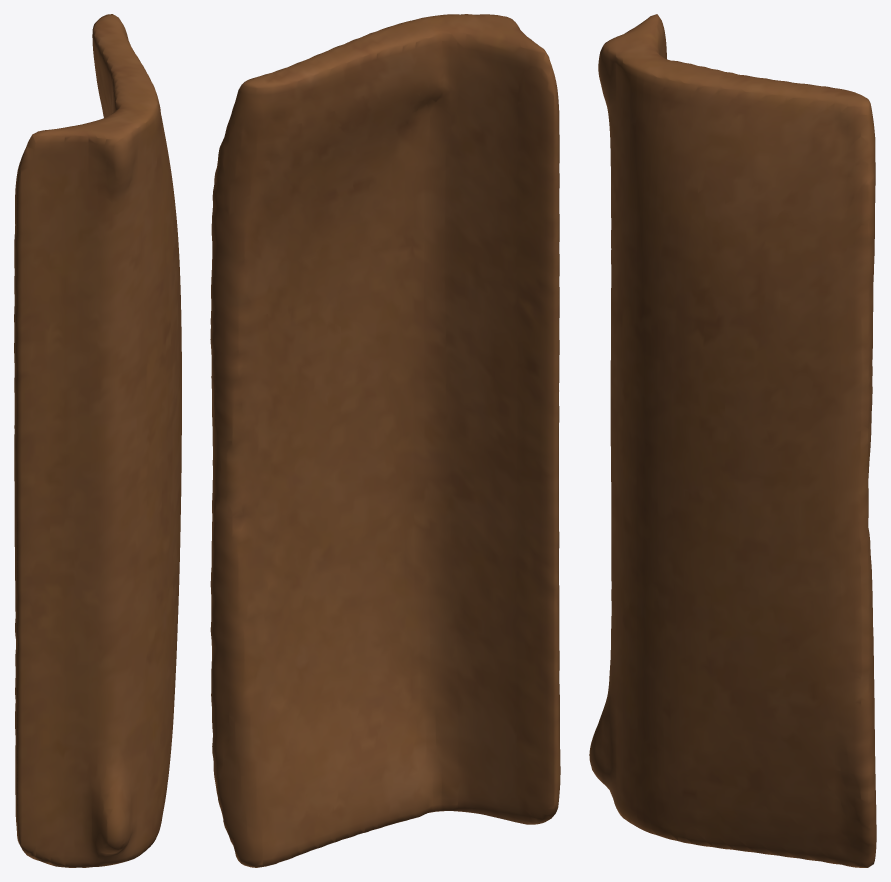
Rendered from A curved two seater wooden seats which can be used.glb.
The picture shows the model from 3 angles, left to right: view 1: azimuth 30°, elevation 25°; view 2: azimuth 150°, elevation 25°; view 3: azimuth 270°, elevation 25°; orthographic projection. The views are drawn at different scales.
Parts seen in each view (by area): view 1: A curved two seater wooden seats which can be used; view 2: A curved two seater wooden seats which can be used; view 3: A curved two seater wooden seats which can be used.
Boxes of the visible parts, left/top/right/bottom form: A curved two seater wooden seats which can be used: left=14, top=14, right=181, bottom=867; A curved two seater wooden seats which can be used: left=210, top=14, right=560, bottom=867; A curved two seater wooden seats which can be used: left=589, top=14, right=876, bottom=867.
Bounding box in the file's own units: 0.3279 × 0.9981 × 0.3392.
